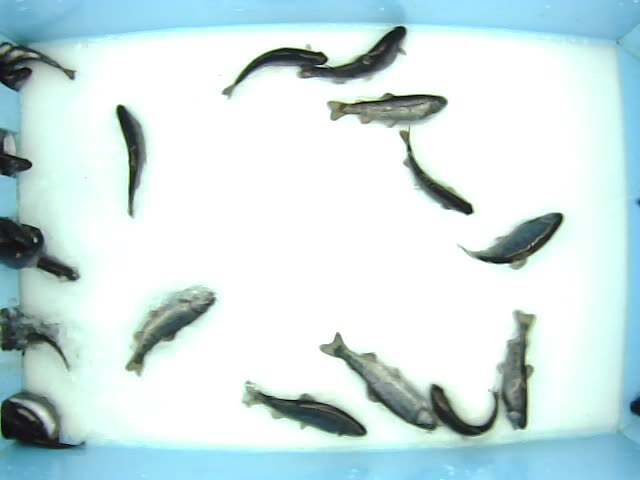fish: (316, 329, 439, 434), (122, 284, 218, 379), (239, 377, 369, 439), (296, 22, 408, 86), (398, 124, 474, 216), (452, 210, 564, 270), (219, 41, 330, 101), (496, 307, 537, 432), (326, 89, 448, 128), (428, 381, 500, 441), (115, 101, 149, 220)
